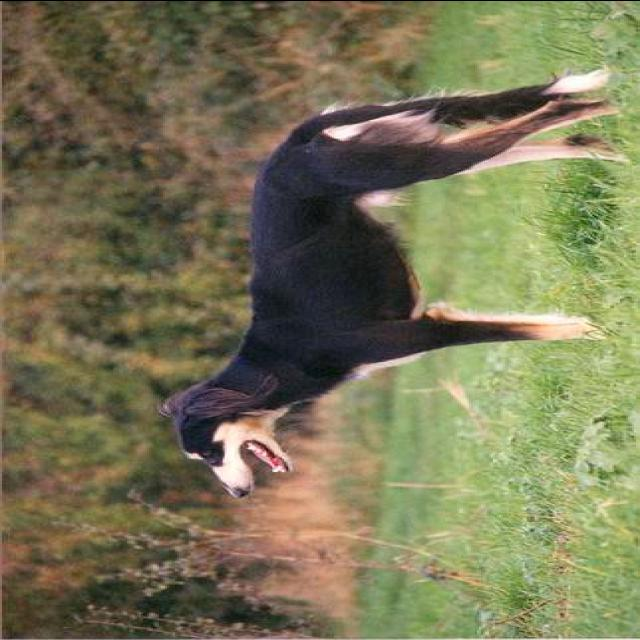saluki: (149, 62, 624, 494)
